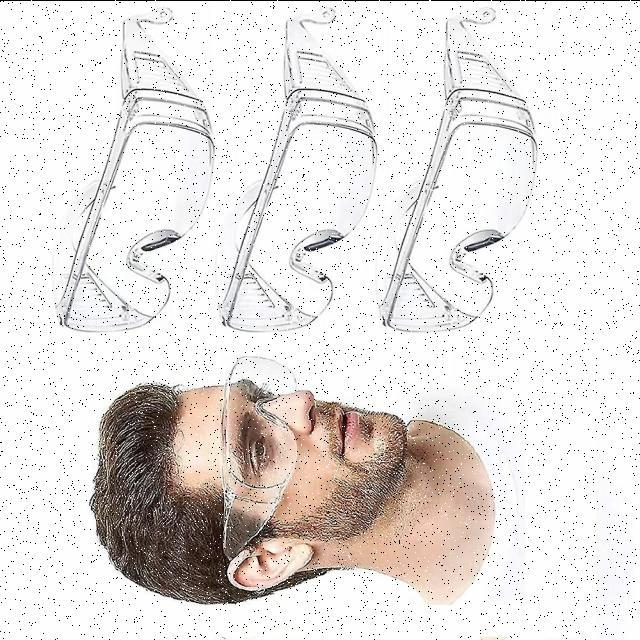Goggles: (45, 0, 198, 328), (197, 356, 300, 560)
